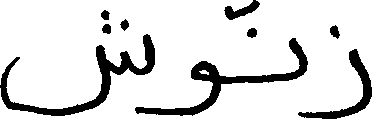ز: (328, 23, 369, 117)
ش: (0, 8, 156, 116)
ن: (245, 25, 309, 89)
و: (188, 59, 222, 117)
